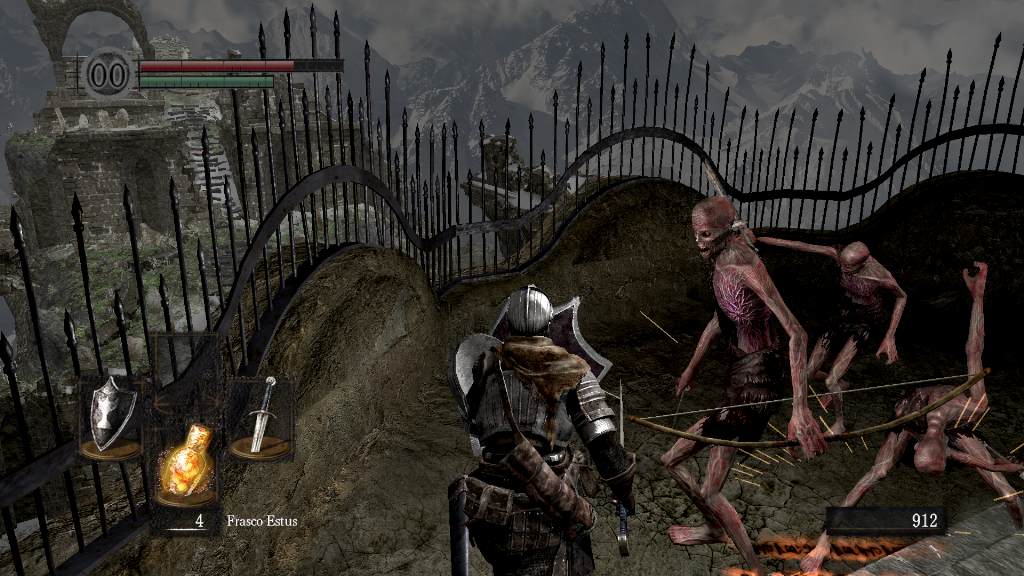health: (138, 58, 343, 71)
hollow: (628, 196, 989, 576), (802, 261, 1024, 572), (697, 161, 907, 441)
humanity: (80, 45, 136, 102)
player: (446, 282, 638, 576)
souls: (825, 506, 945, 536)
stamina: (138, 74, 274, 88)
